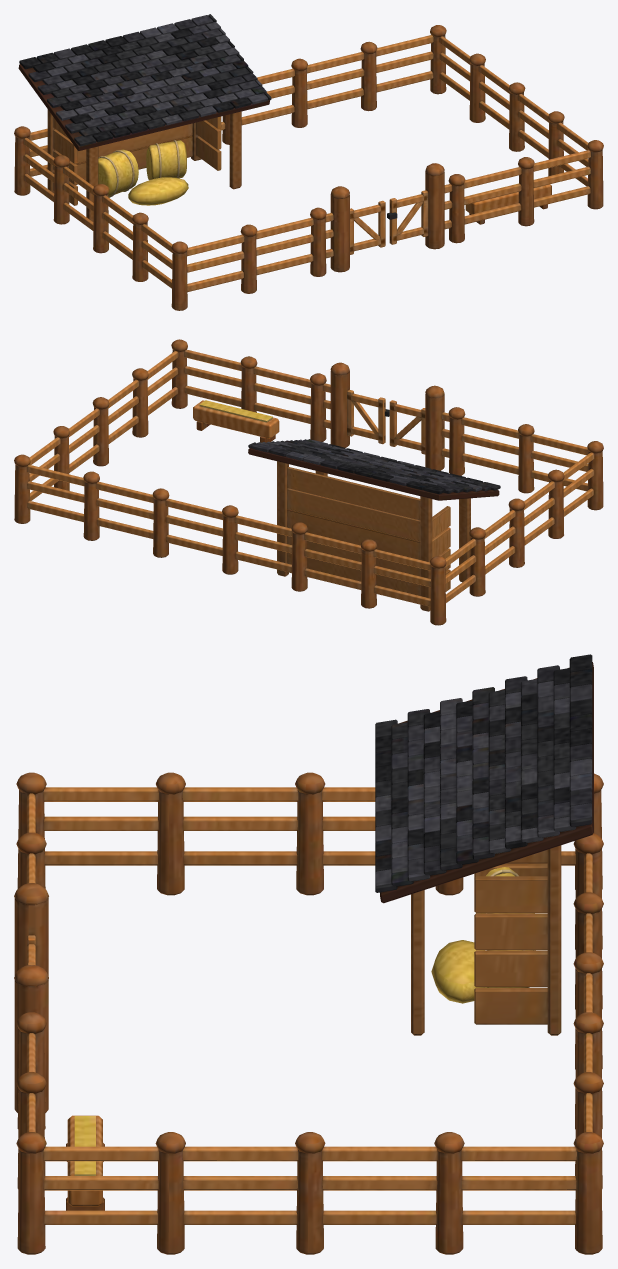
File: angus_ranch.glb
3 renders of one model, top to bottom at view 1: azimuth 30°, elevation 25°; view 2: azimuth 150°, elevation 25°; view 3: azimuth 270°, elevation 25°, orthographic. The views are drawn at different scales.
Visible parts, largest first — view 1: angus_ranch, gate1, gate0; view 2: angus_ranch, gate1, gate0; view 3: angus_ranch.
Boxes of the visible parts, <box> form: angus_ranch: <box>14,14,603,310</box>; gate1: <box>387,190,428,244</box>; gate0: <box>350,200,385,254</box>; angus_ranch: <box>14,339,603,625</box>; gate1: <box>347,389,389,444</box>; gate0: <box>389,400,425,454</box>; angus_ranch: <box>14,654,603,1254</box>.
Size of the model in its own units: 3 by 0.9343 by 2.01.
Materials: 1 (1 with a texture image).
